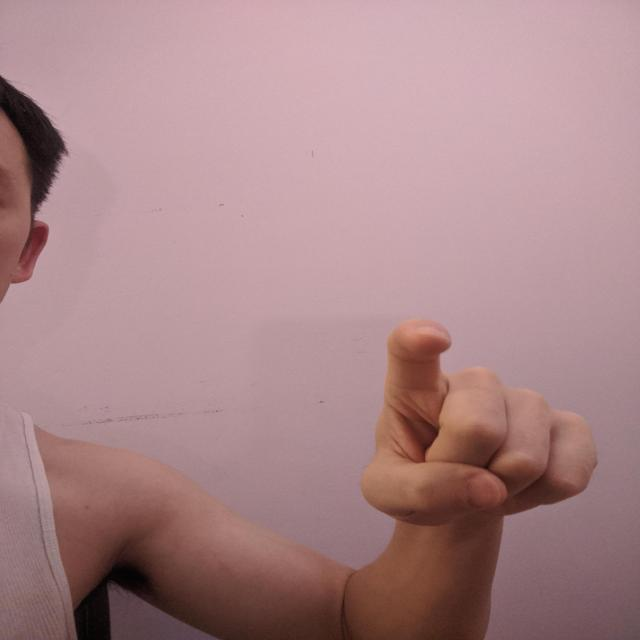Z: (356, 314, 603, 532)
